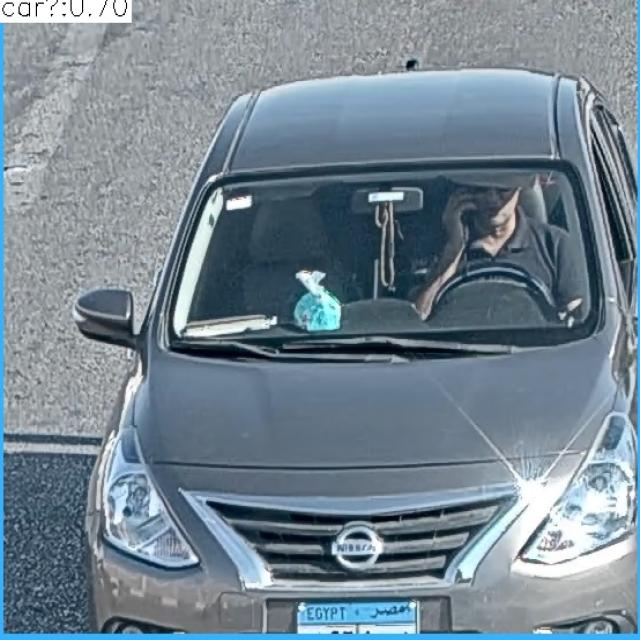windshield: (160, 167, 600, 348)
